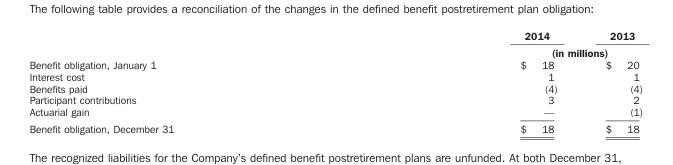table: (28, 28, 642, 134)
table column: (28, 28, 346, 134), (346, 28, 580, 134), (580, 28, 642, 134)
table column header: (28, 28, 642, 58)
table row: (28, 28, 642, 43), (28, 43, 642, 58), (28, 119, 642, 134), (28, 105, 642, 119), (28, 58, 642, 70), (28, 70, 642, 82), (28, 93, 642, 105), (28, 82, 642, 93)
table spanning cell: (346, 43, 642, 58)
